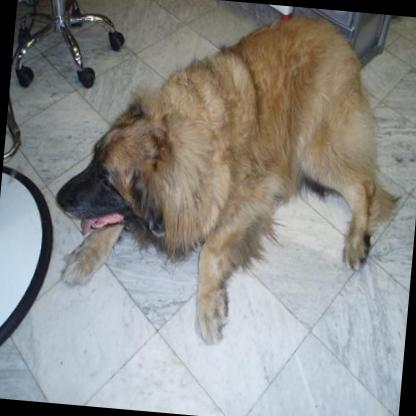Leonberg: (43, 0, 416, 361)
